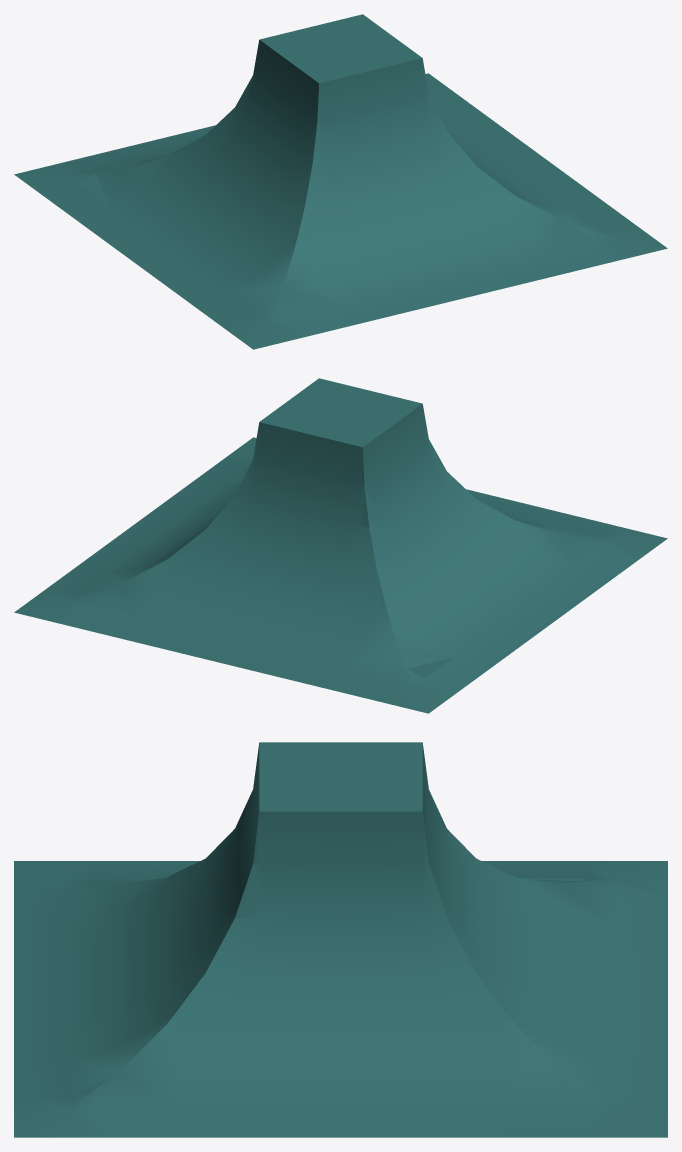
The model's file is Trawler_Up_Mesh.fbx.
3 renders of one model, top to bottom at view 1: azimuth 30°, elevation 25°; view 2: azimuth 150°, elevation 25°; view 3: azimuth 270°, elevation 25°, orthographic. The views are drawn at different scales.
Visible parts, largest first — view 1: Body; view 2: Body; view 3: Body.
Part boxes in pixels (<box>): Body: <box>14,14,667,349</box>; Body: <box>14,378,667,713</box>; Body: <box>14,742,667,1137</box>.
Size of the model in its own units: 800 by 800 by 300.
